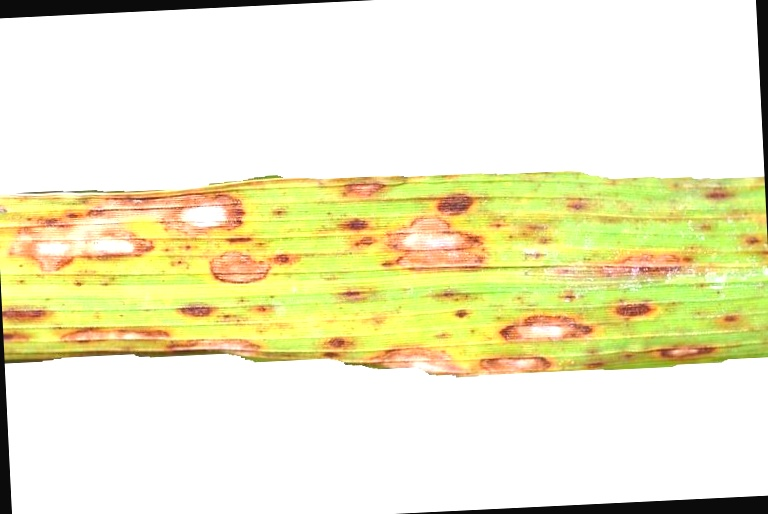Bacterial_Leaf_Blight: (43, 317, 269, 362), (364, 200, 492, 272), (13, 208, 164, 267), (539, 244, 720, 285), (183, 234, 295, 292), (155, 178, 260, 234), (355, 334, 464, 379), (580, 340, 719, 372), (491, 307, 598, 340), (473, 347, 551, 378), (3, 296, 53, 343), (602, 291, 670, 324), (424, 186, 481, 217), (168, 293, 222, 322), (314, 330, 354, 365), (333, 180, 397, 197), (694, 183, 736, 205), (331, 279, 374, 300), (708, 308, 747, 329)
